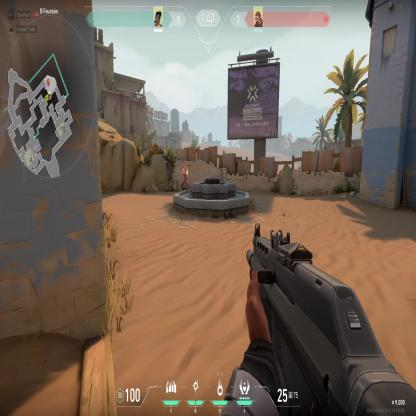enemy: (181, 164, 190, 192)
